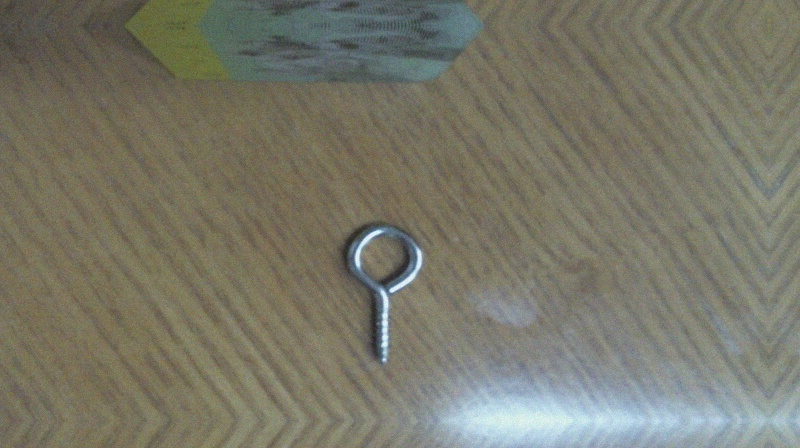O001: (337, 216, 429, 366)
